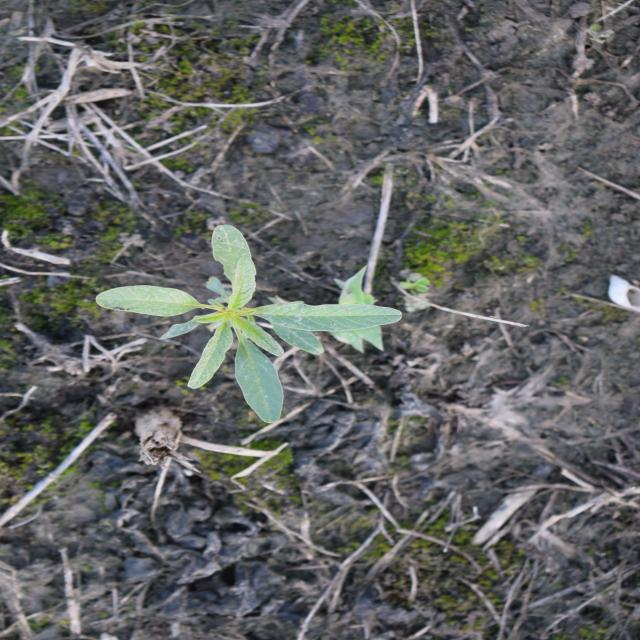Waterhemp: (93, 222, 406, 425)
